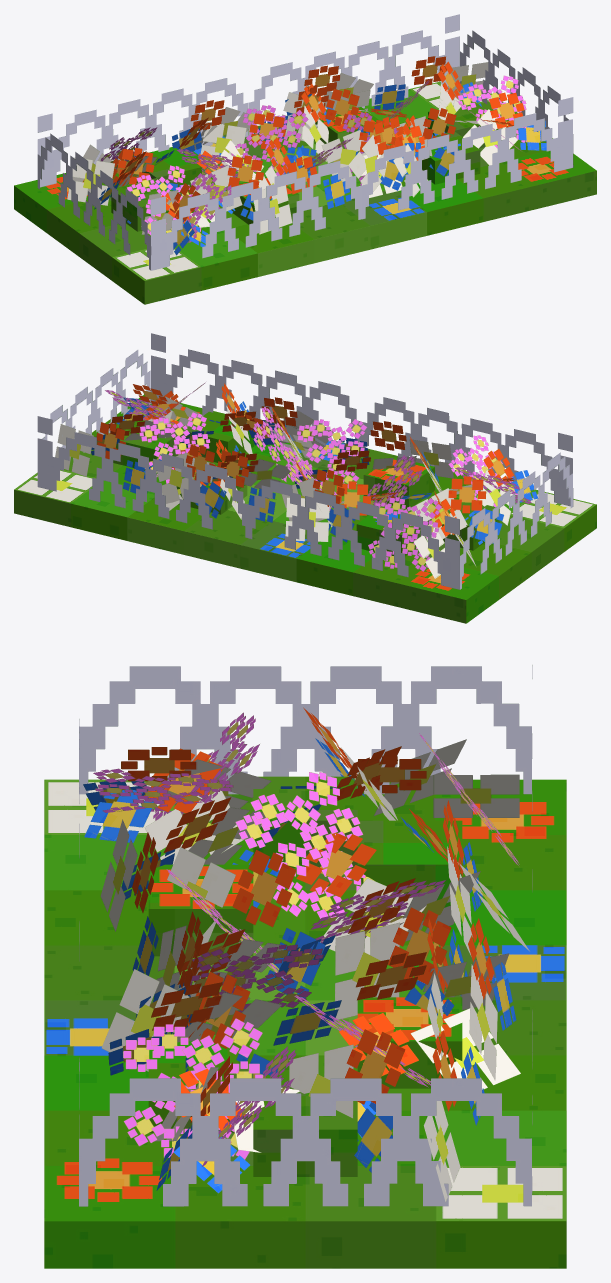
Rendered from C3_garden02.FBX.
3 renders of one model, top to bottom at view 1: azimuth 30°, elevation 25°; view 2: azimuth 150°, elevation 25°; view 3: azimuth 270°, elevation 25°, orthographic. The views are drawn at different scales.
Visible parts, largest first — view 1: Box003, Box002, Plane034, Plane003, Plane033, Plane032, Plane026, Plane028, Plane001, Plane018, Plane002, Plane016 (+15 smaller); view 2: Box003, Box002, Plane032, Plane033, Plane003, Plane034, Plane002, Plane017, Plane001, Plane028, Plane024, Plane027 (+17 smaller); view 3: Box002, Box003, Plane031, Plane001, Plane025, Plane010, Plane009, Plane019, Plane024, Plane018, Plane021, Plane002 (+13 smaller).
Boxes of the visible parts, x1,y1,x2,y2 form: Box003: (14,134,370,304); Box002: (248,81,596,249); Plane034: (150,161,361,270); Plane003: (362,97,573,219); Plane033: (37,78,248,187); Plane032: (249,14,459,135); Plane026: (200,112,409,190); Plane028: (253,116,420,234); Plane001: (37,133,151,270); Plane018: (67,148,272,220); Plane002: (285,56,490,117); Plane016: (360,92,546,197); Box003: (240,449,596,623); Box002: (14,394,370,568); Plane032: (37,416,248,538); Plane033: (248,480,459,589); Plane003: (150,333,361,446); Plane034: (362,397,573,506); Plane002: (55,422,226,518); Plane017: (285,476,503,543); Plane001: (460,452,572,589); Plane028: (248,397,453,478); Plane024: (414,449,538,578); Plane027: (179,450,355,542); Box002: (44,997,566,1268); Box003: (44,776,566,1000); Plane031: (79,1078,531,1206); Plane001: (79,666,531,794); Plane025: (167,847,454,1020); Plane010: (101,969,405,1172); Plane009: (108,952,509,1075); Plane019: (84,748,426,954); Plane024: (83,747,519,817); Plane018: (121,739,466,899); Plane021: (235,772,374,918); Plane002: (423,918,516,1202).
Size of the model in its own units: 236 by 47.24 by 118.
Materials: 2 (2 with a texture image).
